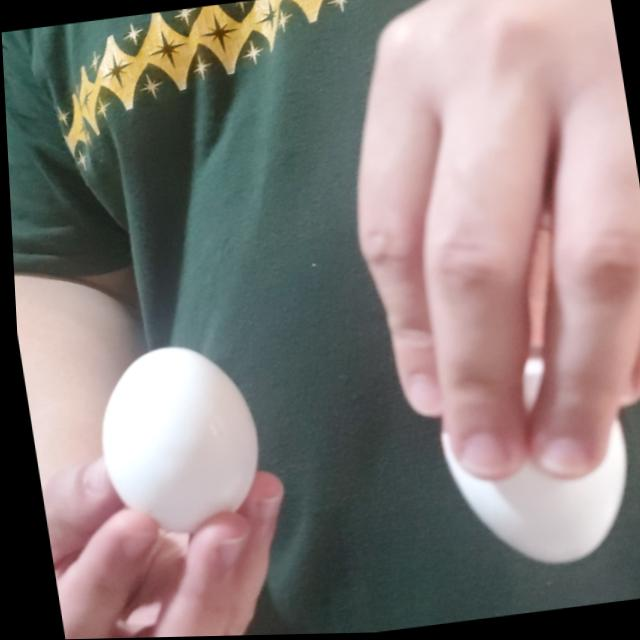egg: (425, 382, 635, 576), (84, 336, 267, 542)
